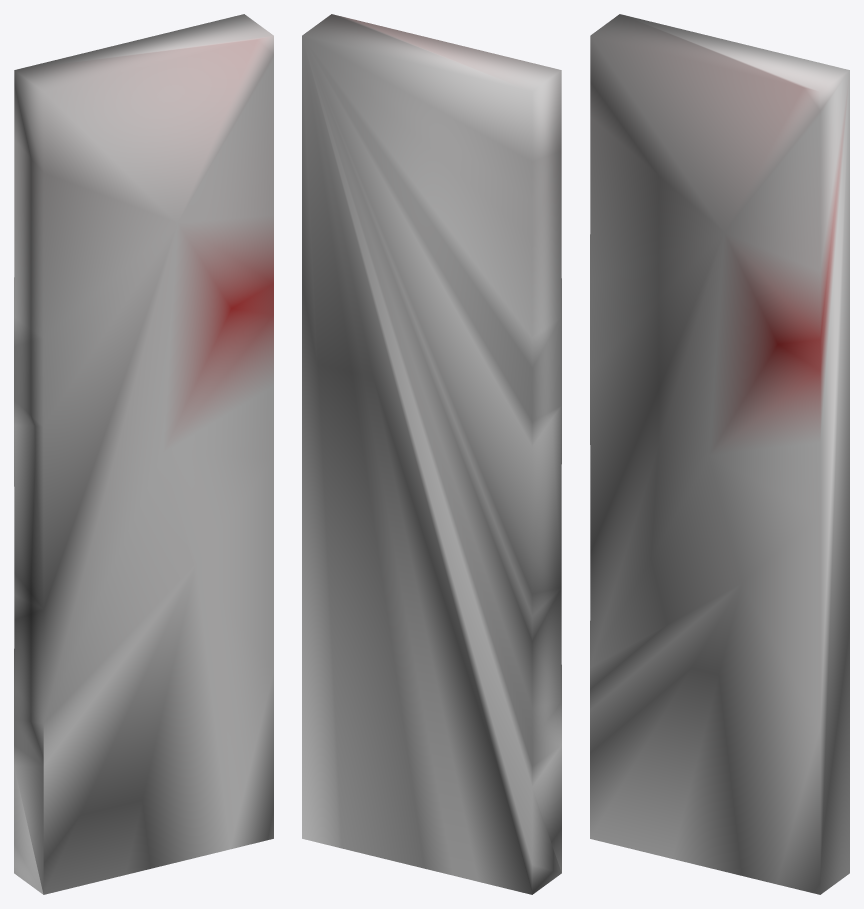
The model's file is SM_FA_Factory_W90_H300.fbx.
3 views of the same model, side by side, from view 1: azimuth 30°, elevation 25°; view 2: azimuth 150°, elevation 25°; view 3: azimuth 330°, elevation 25° (orthographic).
Parts seen in each view (by area): view 1: SM_FA_Factory_W90_H300; view 2: SM_FA_Factory_W90_H300; view 3: SM_FA_Factory_W90_H300.
Part boxes in pixels (x1=…): SM_FA_Factory_W90_H300: x1=14, y1=14, x2=273, y2=894; SM_FA_Factory_W90_H300: x1=302, y1=14, x2=561, y2=894; SM_FA_Factory_W90_H300: x1=590, y1=14, x2=849, y2=894.
Size of the model in its own units: 90 by 20 by 300.
